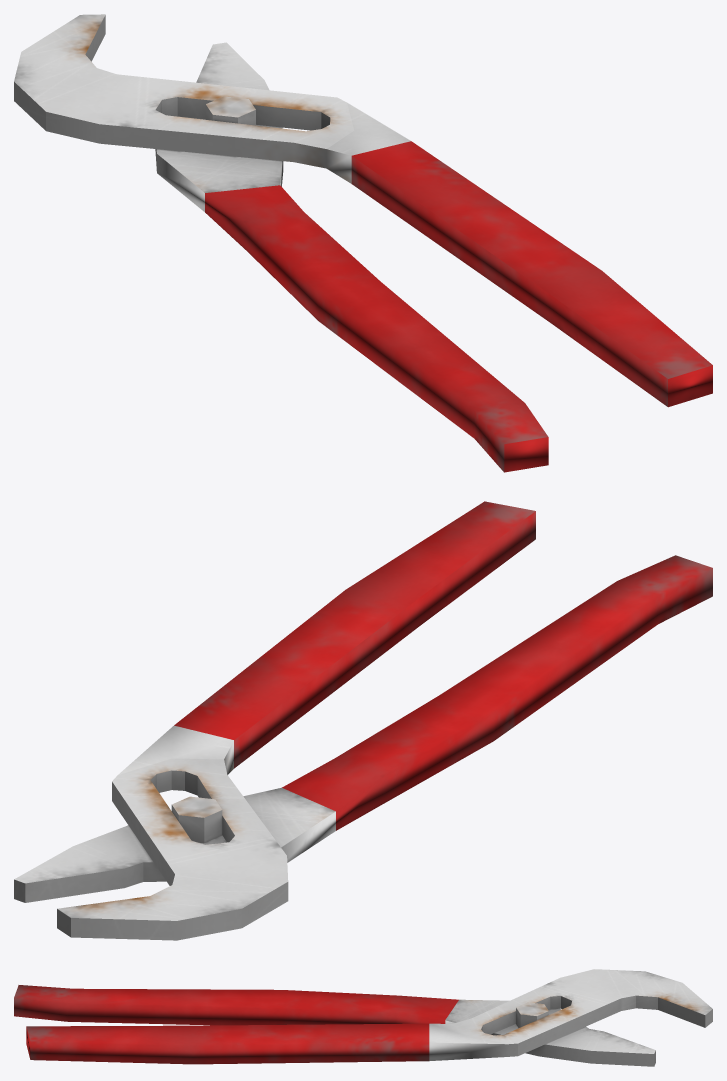
File: pipeWrench.fbx
3 renders of one model, top to bottom at view 1: azimuth 30°, elevation 25°; view 2: azimuth 150°, elevation 25°; view 3: azimuth 270°, elevation 25°, orthographic. The views are drawn at different scales.
Parts seen in each view (by area): view 1: pipeWrench; view 2: pipeWrench; view 3: pipeWrench.
Part boxes in pixels (<box>): pipeWrench: <box>14,14,712,472</box>; pipeWrench: <box>14,501,712,940</box>; pipeWrench: <box>14,969,712,1066</box>.
Bounding box in the file's own units: 0.1155 × 0.0217 × 0.4282.
